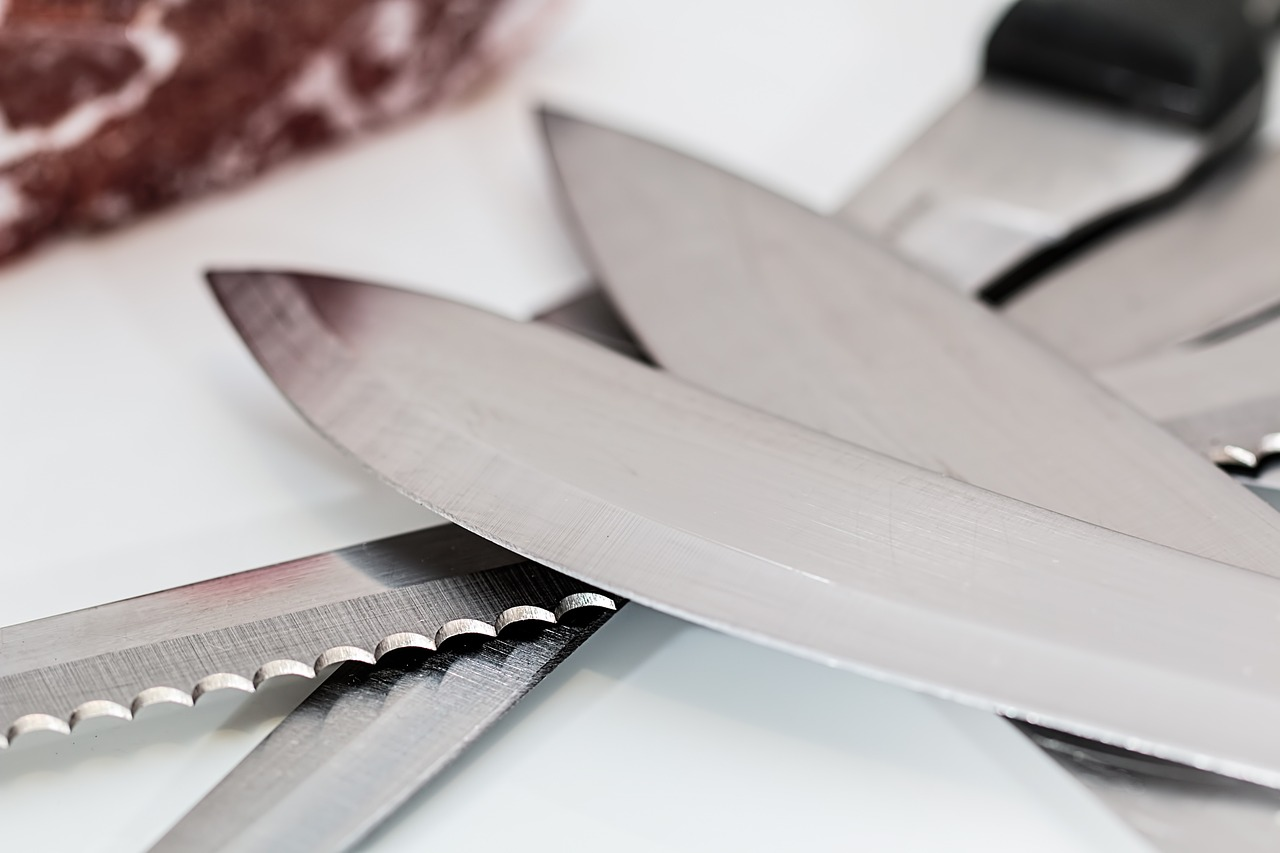knife: (134, 0, 1280, 853), (515, 84, 1280, 853), (195, 258, 1280, 800), (2, 323, 1280, 769)
